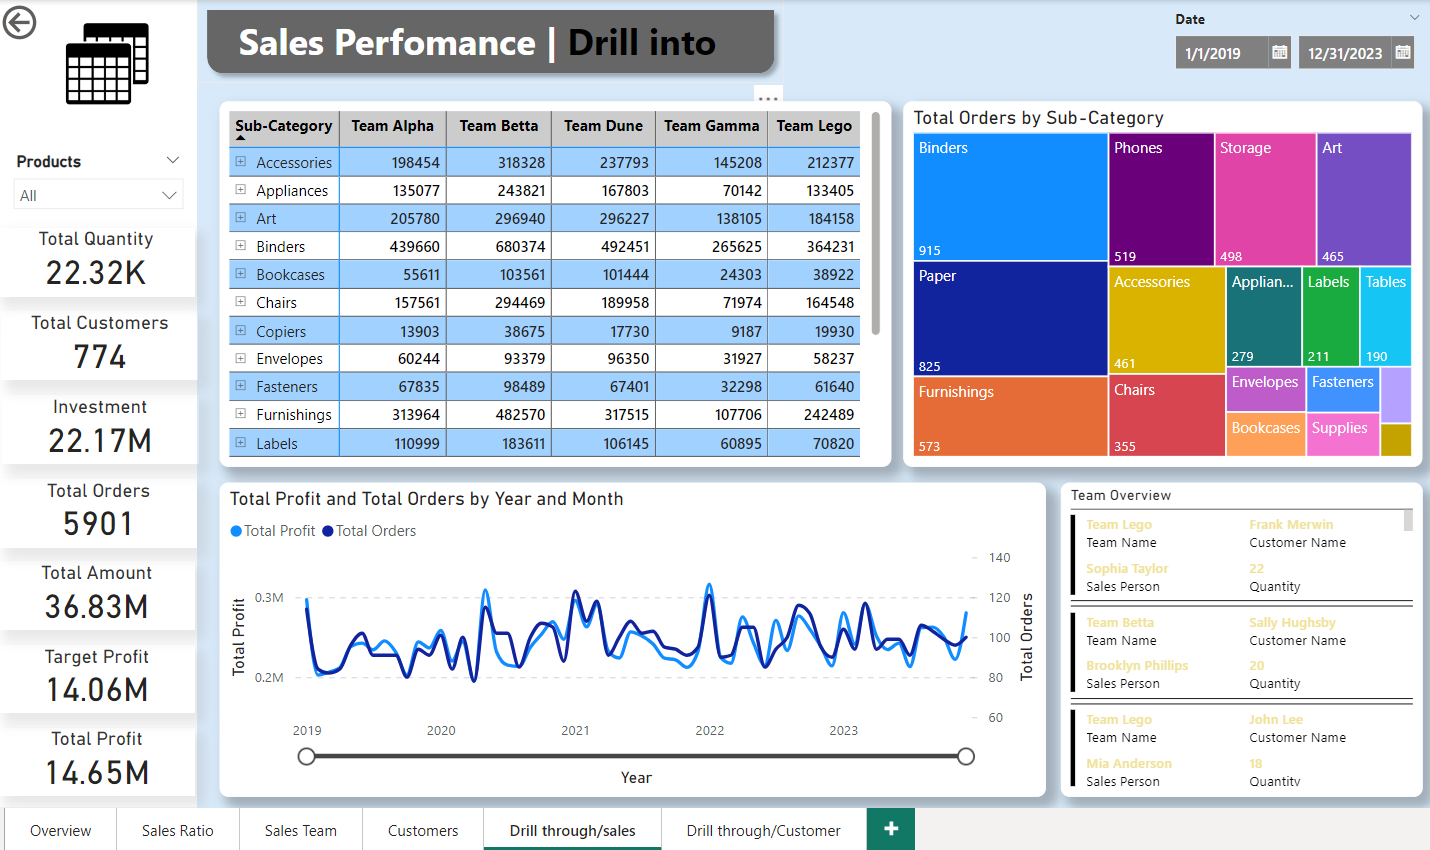

This screenshot's page, from the dashboard's own definition file:
{"tool":"powerbi","page":{"name":"Drill through/sales","canvas":[1280,720],"ordinal":4},"visuals":[{"type":"shape","box":[178.1,0,523,74.3],"z":0},{"type":"shape","box":[0,0,178.1,719.4],"z":1000},{"type":"card","title":"Total Orders","fields":{"Values":["f-sales data.Total Orders"]},"box":[2.4,425.8,176.1,61.5],"z":2000},{"type":"card","title":"Total Customers","fields":{"Values":["f-sales data.Total Customers"]},"box":[3.6,277.1,176.1,61.5],"z":3000},{"type":"card","title":"Investment","fields":{"Values":["f-sales data.Company Cost"]},"box":[4.8,351.4,174.9,61.5],"z":4000},{"type":"card","title":"Total Amount","fields":{"Values":["f-sales data.Total Amount"]},"box":[1.4,500.2,175.3,61],"z":5000},{"type":"card","title":"Total Profit","fields":{"Values":["f-sales data.Total Proit"]},"box":[1.4,647.9,175.3,61],"z":6000},{"type":"card","title":"Target Profit","fields":{"Values":["Sum(d-target sale.Target Profit)"]},"box":[1.4,574,175.3,61],"z":7000},{"type":"slicer","fields":{"Values":["d-target sale.Products"]},"box":[4.8,130.3,171.3,63.9],"z":8000},{"type":"textbox","box":[209.9,9.7,479,54.3],"z":9000},{"type":"card","title":"Total Quantity","fields":{"Values":["Sum(f-sales data.Quantity)"]},"box":[0,202.7,176.1,61.5],"z":10000},{"type":"pivotTable","fields":{"Rows":["f-sales data.Sub-Category","d-sales team.Team Lead"],"Values":["f-sales data.Total Profit"],"Columns":["d-sales team.Team Name"]},"box":[197.9,90.5,598.4,325.7],"z":11000},{"type":"actionButton","box":[0,0,100,40],"z":12000},{"type":"treemap","fields":{"Group":["f-sales data.Sub-Category"],"Values":["f-sales data.Total Orders"]},"box":[807.1,90.5,462.1,325.7],"z":13000},{"type":"lineChart","fields":{"Category":["f-sales data.Order Date.Variation.Date Hierarchy.Year","f-sales data.Order Date.Variation.Date Hierarchy.Month"],"Y":["f-sales data.Total Profit"],"Y2":["f-sales data.Total Orders"]},"box":[197.9,429.5,735.9,279.9],"z":14000},{"type":"multiRowCard","title":"Team Overview","fields":{"Values":["d-sales team.Team Name","f-sales data.Customer Name","d-sales team.Sales Person","Sum(f-sales data.Quantity)"]},"box":[947.1,429.5,322.1,279.9],"z":15000},{"type":"slicer","title":"Pick Date","fields":{"Values":["f-sales data.Order Date"]},"box":[1036.3,3.6,243.7,74.8],"z":16000},{"type":"image","box":[49.5,9.7,97.7,94.1],"z":17000}]}

Visuals, with their boxes on the page's 1280x720 design canvas (x1, y1, x2, y2). These are canvas units, not pixel positions in the 1430x850 screenshot, which may show the page scaled, cropped or inside an application window:
shape: (178, 0, 701, 74)
shape: (0, 0, 178, 719)
"Total Orders" card: (2, 426, 178, 487)
"Total Customers" card: (4, 277, 180, 339)
"Investment" card: (5, 351, 180, 413)
"Total Amount" card: (1, 500, 177, 561)
"Total Profit" card: (1, 648, 177, 709)
"Target Profit" card: (1, 574, 177, 635)
slicer - d-target sale.Products: (5, 130, 176, 194)
textbox: (210, 10, 689, 64)
"Total Quantity" card: (0, 203, 176, 264)
pivotTable - f-sales data.Sub-Category x d-sales team.Team Lead: (198, 90, 796, 416)
actionButton: (0, 0, 100, 40)
treemap - f-sales data.Sub-Category x f-sales data.Total Orders: (807, 90, 1269, 416)
lineChart - f-sales data.Order Date.Variation.Date Hierarchy.Year x f-sales data.Order Date.Variation.Date Hierarchy.Month: (198, 430, 934, 709)
"Team Overview" multiRowCard: (947, 430, 1269, 709)
"Pick Date" slicer: (1036, 4, 1280, 78)
image: (50, 10, 147, 104)
